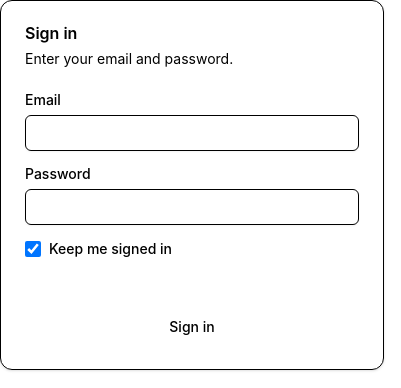
Test case: SignInForm › shows errors in a live region
Type "ada@example.com" into the field labelled "Email" at (192, 133), box [25, 115, 359, 151]
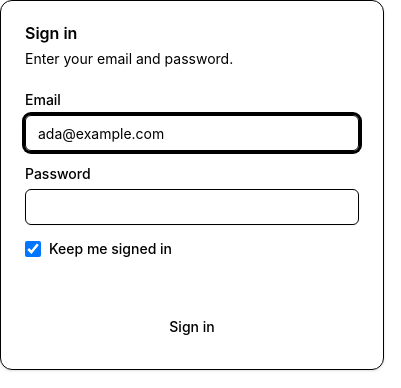
Type "correct horse" into the password field labelled "Password" at (192, 207), box [25, 189, 359, 225]
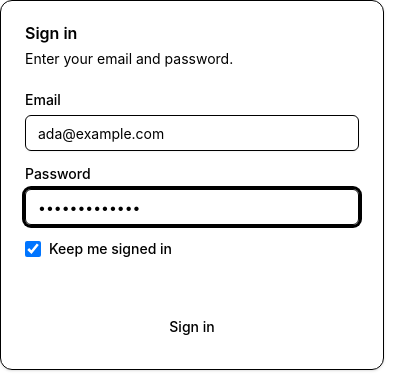
Click the button "Sign in" at (192, 327), box [25, 309, 359, 345]
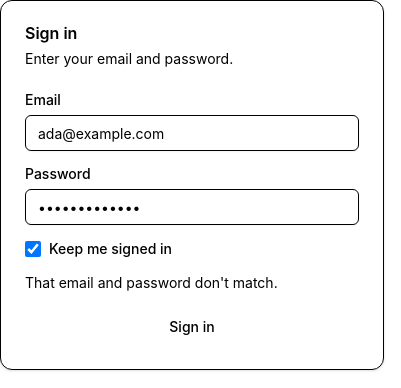
Now the message shows "don't match", box [25, 274, 278, 291]
